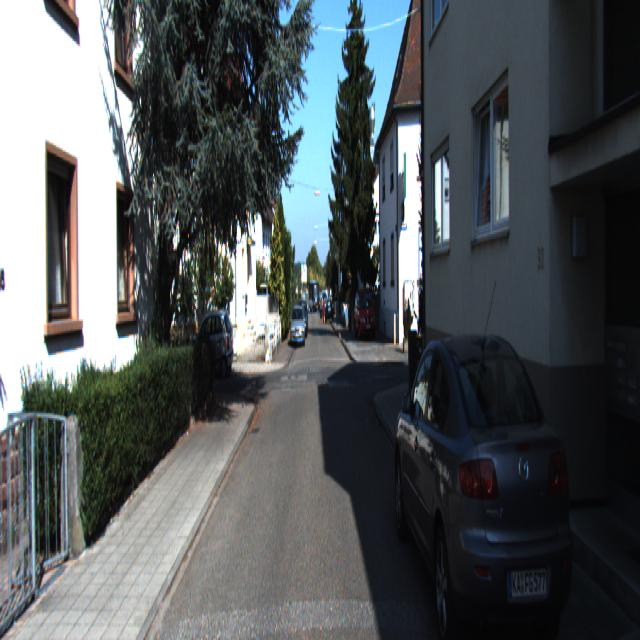Car: (393, 316, 580, 638), (184, 303, 233, 373), (354, 284, 376, 339), (291, 306, 305, 348)
